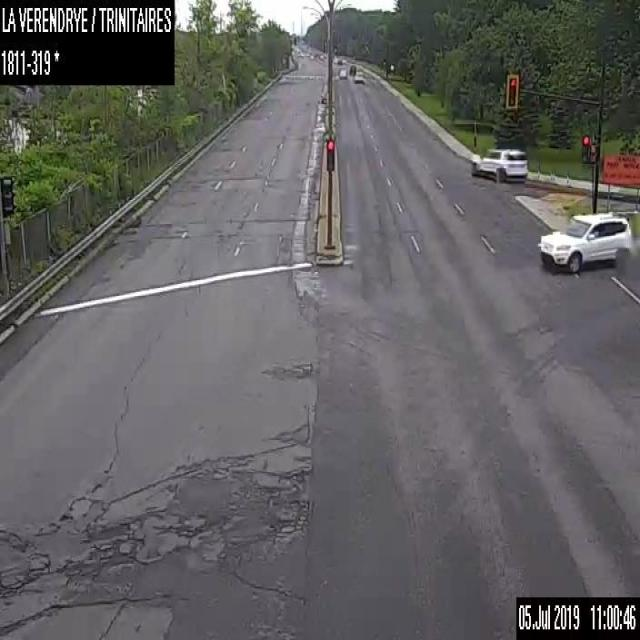vehicle: (536, 209, 632, 275), (473, 147, 528, 180), (353, 70, 364, 83), (338, 67, 347, 78), (348, 62, 356, 74)
